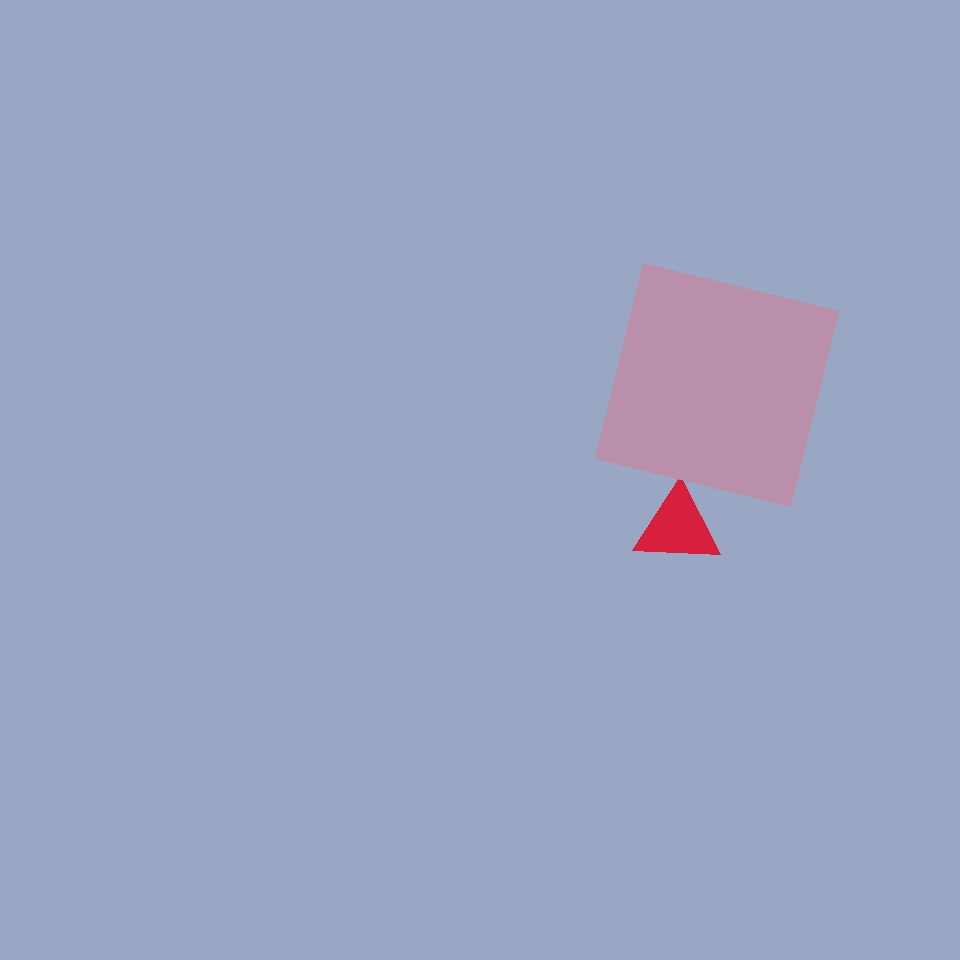circle: (634, 488, 722, 566)
square: (178, 619, 437, 878), (595, 264, 838, 506), (654, 137, 878, 362), (650, 619, 759, 729)
triangle: (99, 180, 450, 531)
